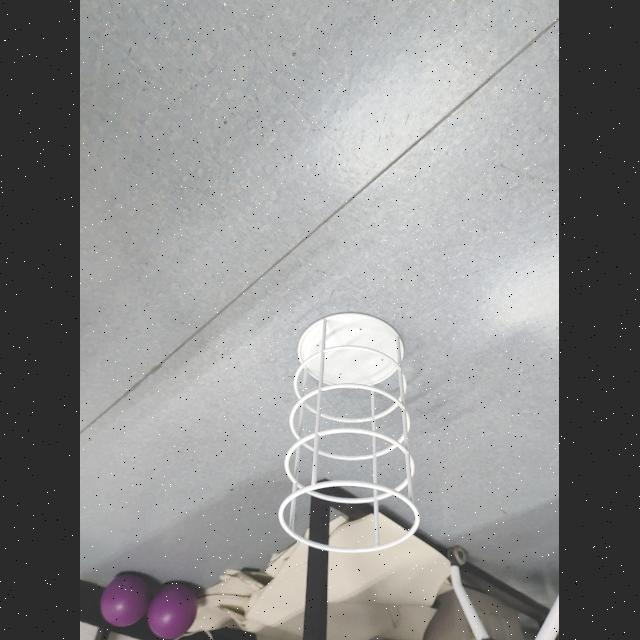S: (276, 311, 420, 555)
